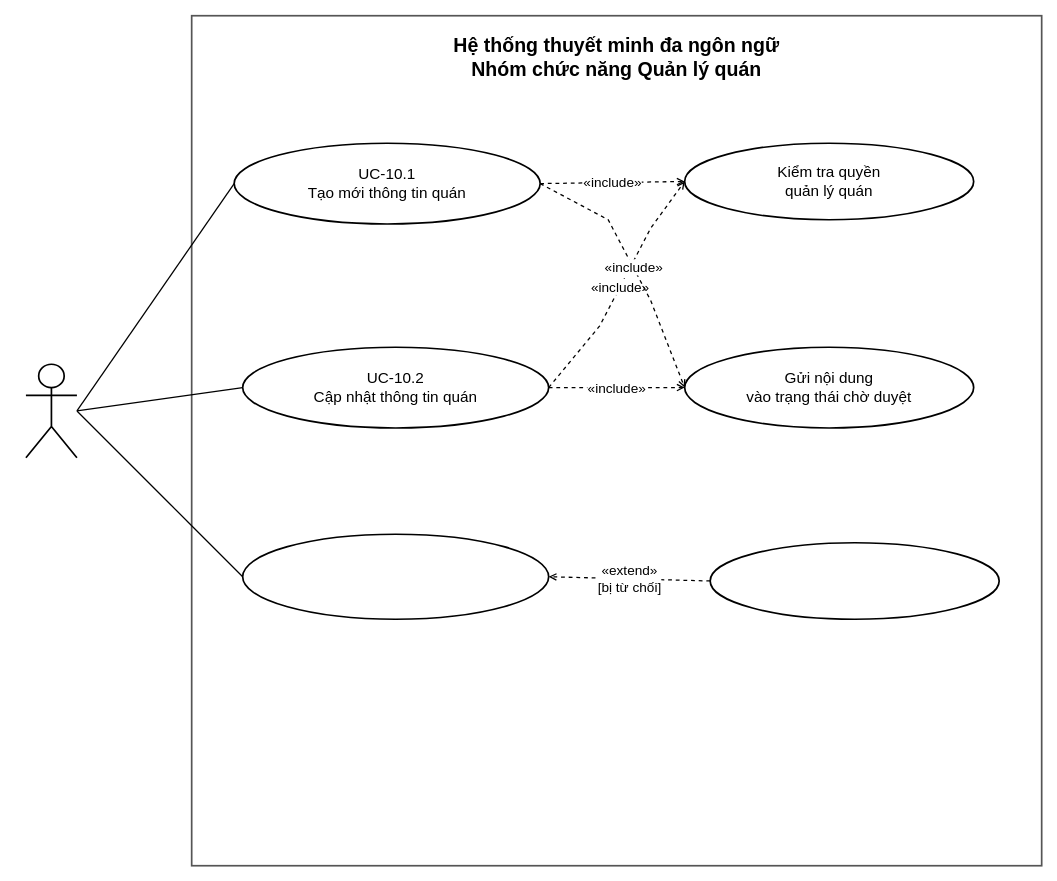
Some shapes in this 1057 by 881 pixel diagram are drawn without their labels. Here are the shapes that lost their labels. From the top down, the centre of each, then its label:
At (51,410): "Chủ quán".
At (395,576): "UC-11 Xem trạng thái kiểm duyệt nội dung".
At (854,580): "Xem lý do từ chối".
